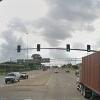Traffic light: (13, 40, 91, 58)
